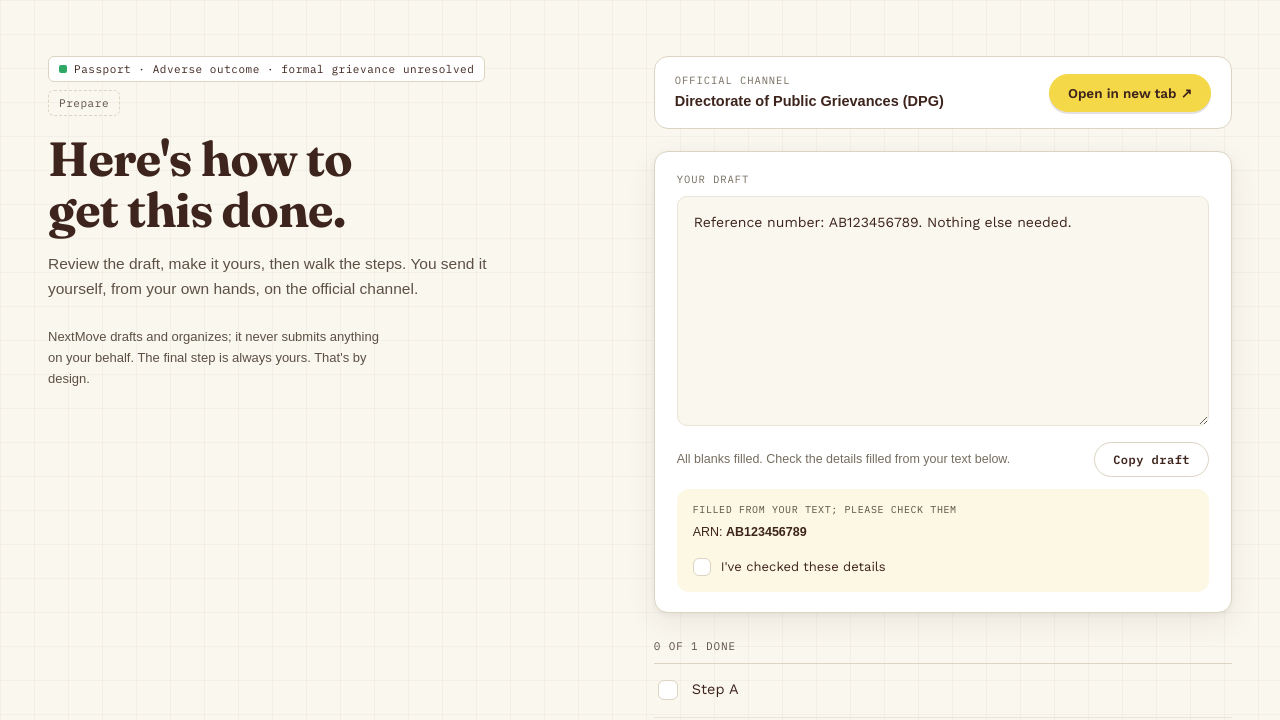
Test: facts fill the draft, visibly, behind a review acknowledgment (Task 15, FR-AI-04/AC-AI-4) › the hint has three states, checked in this order (design note 4): blanks remaining, then unreviewed fills, then ready › no blanks + REVIEWED fills shows hintReady
The image size is (1280, 720).
Click the button "I've checked these details" at (789, 567), box x1=693 y1=553 x2=886 y2=580
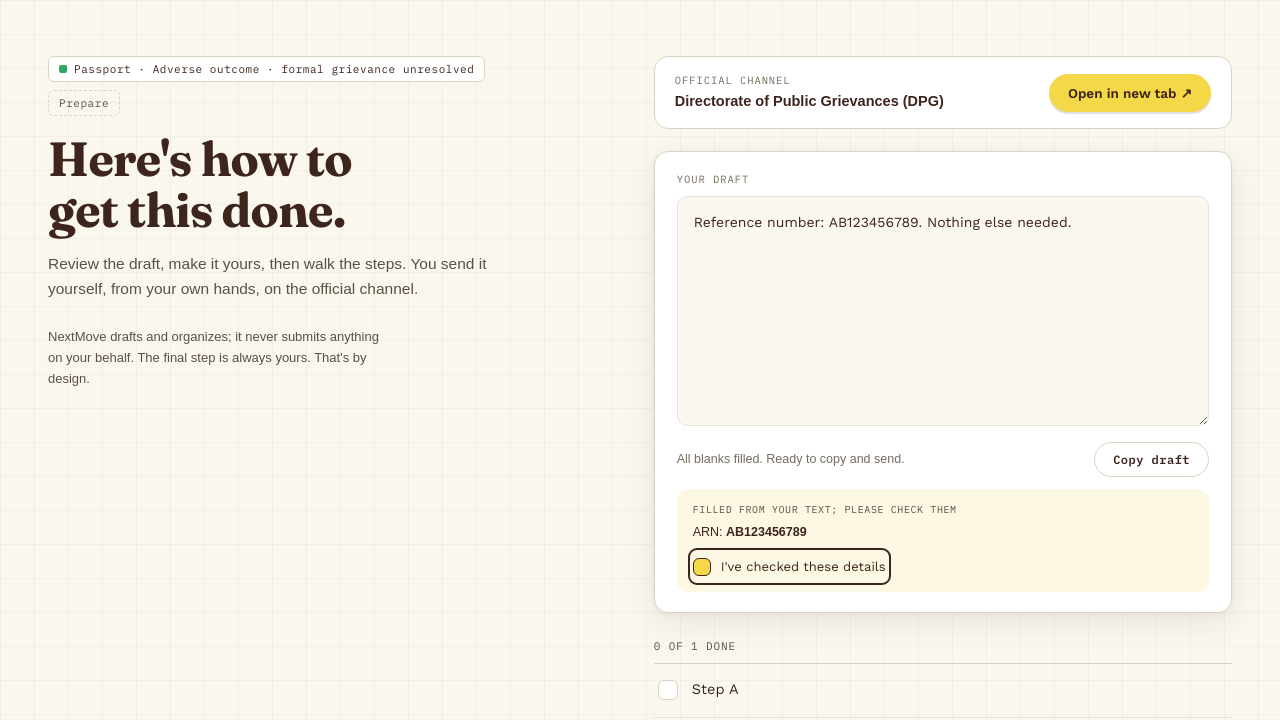
Result: the text "All blanks filled. Ready to copy and send." is shown at x1=677 y1=452 x2=905 y2=466
